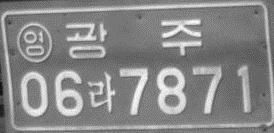0: (20, 70, 48, 118)
1: (229, 63, 260, 113)
6: (53, 69, 83, 117)
7: (191, 64, 222, 114), (118, 68, 149, 116)
8: (156, 66, 187, 116)
광주_D: (65, 18, 202, 60)
라: (88, 71, 115, 113)
영: (15, 21, 53, 63)
